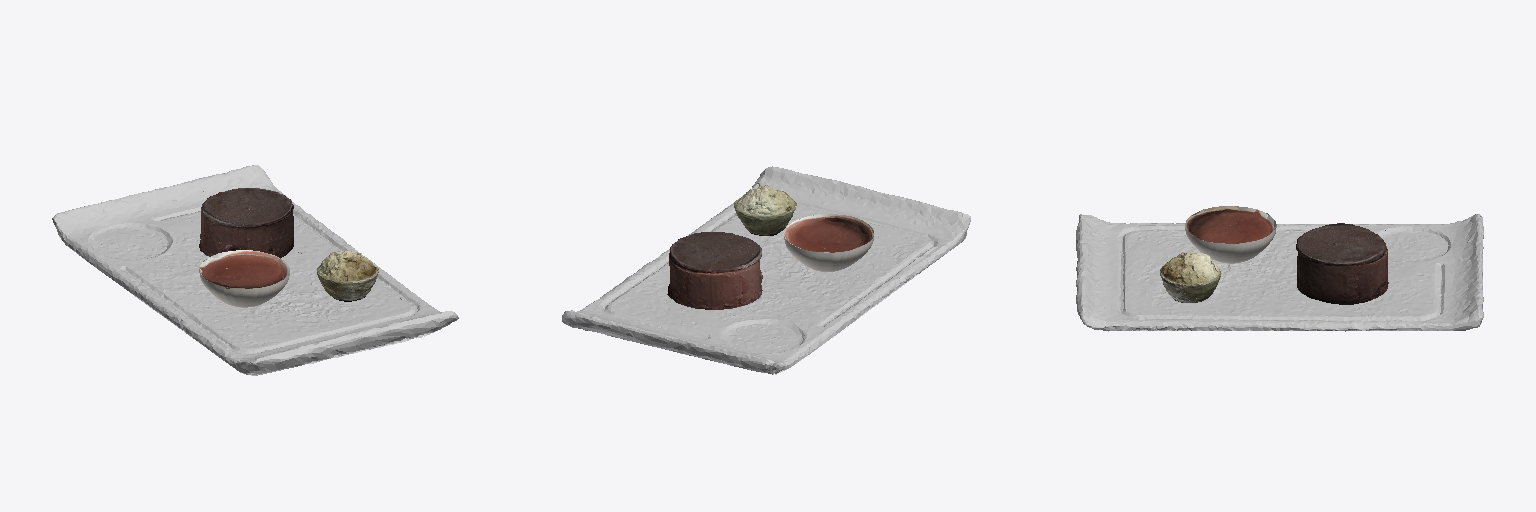
The picture shows the model from 3 angles: view 1: azimuth 30°, elevation 25°; view 2: azimuth 150°, elevation 25°; view 3: azimuth 270°, elevation 25°; orthographic projection.
Parts seen in each view (by area): view 1: mmGroup0; view 2: mmGroup0; view 3: mmGroup0.
Boxes of the visible parts, <box> form: mmGroup0: <box>52,165,458,375</box>; mmGroup0: <box>562,166,970,374</box>; mmGroup0: <box>1076,206,1483,331</box>.
Size of the model in its own units: 0.1826 by 0.042 by 0.3002.
Materials: 5 (4 with a texture image).